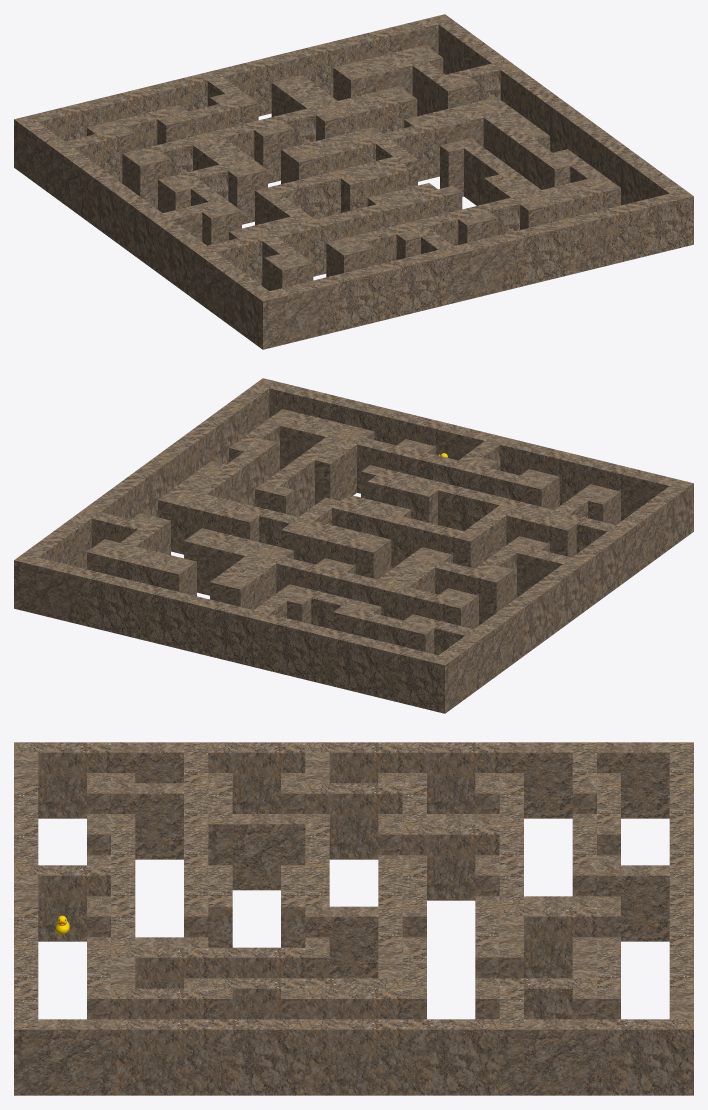
Rendered from duckieMaze2.dae.
3 renders of one model, top to bottom at view 1: azimuth 30°, elevation 25°; view 2: azimuth 150°, elevation 25°; view 3: azimuth 270°, elevation 25°, orthographic. The views are drawn at different scales.
Parts seen in each view (by area): view 1: wallModul1_pCube2, pCube1, pCube1_ncl1_29, wallModul2_pCube1, pCube1_ncl1_28, pCube1_ncl1_1, pCube3_ncl1_1, wallModul3_pCube3, pCube1_ncl1_32, pCube1_ncl1_19, pCube1_ncl1_20, pCube1_ncl1_7 (+83 smaller); view 2: pCube1_ncl1_3, pCube1_ncl1_5, pCube1_ncl1_8, pCube1_ncl1_6, pCube1_ncl1_7, pCube1_ncl1_4, pCube3_ncl1_2, pCube1_ncl1_32, pCube1_ncl1_1, pCube1_ncl1_20, pCube1_ncl1_19, pCube3_ncl1_32 (+79 smaller); view 3: pCube2_ncl1_10, pCube2_ncl1_12, pCube1_ncl1_21, pCube1_ncl1_22, pCube1_ncl1_2, pCube3, pCube3_ncl1_24, pCube1_ncl1_24, pCube1_ncl1_18, pCube3_ncl1_26, pCube1_ncl1_19, pCube1_ncl1_20 (+89 smaller).
Boxes of the visible parts, <box> form: wallModul1_pCube2: <box>562,205,632,274</box>; pCube1: <box>624,190,693,259</box>; pCube1_ncl1_29: <box>377,250,447,319</box>; wallModul2_pCube1: <box>501,220,570,289</box>; pCube1_ncl1_28: <box>316,265,385,334</box>; pCube1_ncl1_1: <box>227,271,278,349</box>; pCube3_ncl1_1: <box>269,280,324,345</box>; wallModul3_pCube3: <box>454,235,509,300</box>; pCube1_ncl1_32: <box>120,193,170,271</box>; pCube1_ncl1_19: <box>85,167,135,245</box>; pCube1_ncl1_20: <box>156,219,206,297</box>; pCube1_ncl1_7: <box>260,44,330,113</box>; pCube1_ncl1_3: <box>383,644,453,713</box>; pCube1_ncl1_5: <box>75,569,145,638</box>; pCube1_ncl1_8: <box>198,599,268,668</box>; pCube1_ncl1_6: <box>260,614,330,683</box>; pCube1_ncl1_7: <box>137,584,206,653</box>; pCube1_ncl1_4: <box>322,629,391,698</box>; pCube3_ncl1_2: <box>29,557,83,623</box>; pCube1_ncl1_32: <box>537,557,587,635</box>; pCube1_ncl1_1: <box>643,479,693,557</box>; pCube1_ncl1_20: <box>572,531,622,609</box>; pCube1_ncl1_19: <box>501,583,551,661</box>; pCube3_ncl1_32: <box>315,440,356,504</box>; pCube2_ncl1_10: <box>305,1019,402,1095</box>; pCube2_ncl1_12: <box>111,1019,208,1095</box>; pCube1_ncl1_21: <box>208,1019,305,1095</box>; pCube1_ncl1_22: <box>402,1019,499,1095</box>; pCube1_ncl1_2: <box>597,1019,693,1095</box>; pCube3: <box>38,1019,110,1095</box>; pCube3_ncl1_24: <box>524,1019,596,1095</box>; pCube1_ncl1_24: <box>402,824,499,900</box>; pCube1_ncl1_18: <box>305,783,402,859</box>; pCube3_ncl1_26: <box>232,814,305,890</box>; pCube1_ncl1_19: <box>402,742,499,813</box>; pCube1_ncl1_20: <box>208,742,305,813</box>.
Size of the model in its own units: 56 by 6 by 56.
